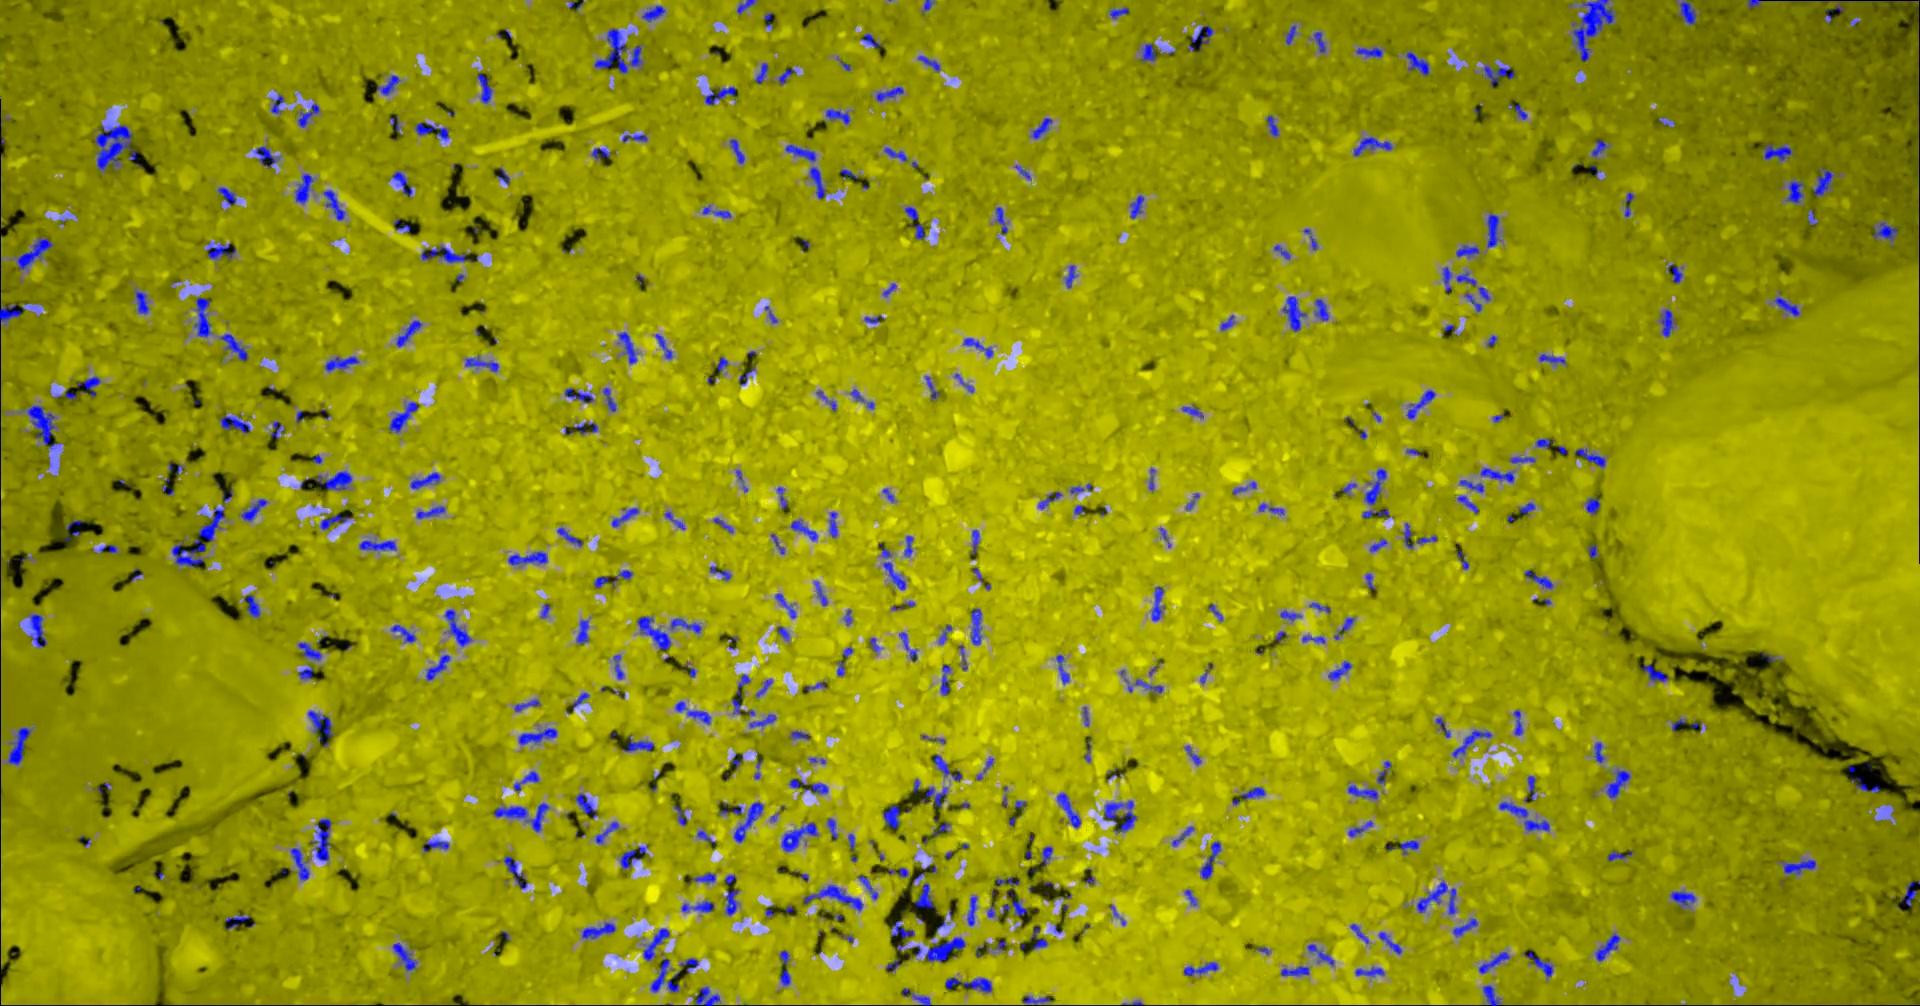ant: (171, 506, 223, 567), (594, 28, 641, 72), (93, 124, 136, 170), (493, 803, 549, 831), (803, 884, 862, 909), (1498, 801, 1549, 831), (25, 405, 58, 448), (1416, 880, 1457, 915), (877, 542, 905, 589), (733, 801, 763, 842), (636, 616, 670, 649), (17, 238, 52, 269), (1451, 729, 1491, 757), (1103, 800, 1137, 832), (781, 822, 817, 851), (444, 608, 470, 647), (1835, 0, 1919, 11), (924, 937, 964, 962), (650, 958, 678, 991), (389, 401, 418, 432), (307, 710, 331, 746), (1406, 389, 1435, 418), (310, 818, 330, 860), (306, 470, 350, 489), (643, 929, 669, 960), (8, 727, 30, 763), (1364, 467, 1385, 506), (1283, 296, 1305, 332), (503, 855, 527, 888), (420, 246, 472, 262), (676, 701, 710, 724), (1057, 793, 1079, 827), (218, 333, 248, 359), (932, 754, 961, 781), (731, 673, 750, 714), (1200, 841, 1220, 879), (1352, 136, 1392, 155), (1523, 950, 1552, 976), (1483, 64, 1515, 86), (943, 977, 990, 992), (1605, 768, 1630, 796), (1594, 934, 1619, 962), (593, 569, 632, 587), (396, 320, 422, 347), (518, 727, 556, 744), (392, 942, 417, 970), (904, 206, 924, 239), (194, 296, 211, 337), (618, 845, 648, 868), (323, 189, 344, 220), (1478, 951, 1509, 973), (1002, 890, 1027, 916), (1811, 166, 1832, 196), (290, 847, 309, 880), (1187, 24, 1211, 50), (425, 654, 450, 680), (415, 122, 450, 140), (1307, 942, 1333, 965), (617, 332, 636, 363), (963, 337, 992, 357), (1230, 786, 1263, 804), (1404, 51, 1429, 75), (1575, 448, 1605, 467), (463, 354, 498, 371), (703, 86, 735, 104), (898, 631, 917, 661), (789, 779, 828, 793), (240, 498, 265, 520), (513, 770, 538, 791), (575, 793, 597, 818), (29, 614, 46, 647), (785, 144, 815, 161), (295, 173, 312, 203), (324, 356, 359, 371), (218, 414, 249, 432), (790, 520, 817, 540), (921, 786, 947, 807), (1524, 569, 1552, 588), (809, 166, 825, 198), (596, 821, 618, 843), (297, 103, 319, 127), (76, 376, 100, 398), (206, 241, 235, 259), (375, 75, 400, 95), (254, 146, 279, 166), (507, 551, 547, 564), (775, 593, 795, 619), (857, 874, 877, 899), (914, 883, 935, 908), (1773, 297, 1799, 316), (611, 507, 637, 526), (582, 922, 615, 937), (1641, 663, 1669, 681), (902, 987, 930, 1005), (1378, 931, 1401, 953), (391, 171, 411, 196), (1872, 221, 1897, 240), (556, 527, 582, 546), (621, 735, 653, 751), (1783, 859, 1815, 874), (1900, 880, 1919, 906), (1850, 776, 1879, 793), (1030, 117, 1051, 138), (476, 72, 491, 103), (670, 617, 701, 633), (1763, 144, 1790, 160), (1479, 467, 1512, 481), (1183, 962, 1217, 976), (0, 304, 24, 323), (850, 389, 874, 408), (297, 641, 321, 661), (1327, 661, 1351, 680), (695, 986, 719, 1005), (390, 624, 415, 641), (1670, 890, 1695, 908), (223, 911, 249, 929), (1451, 918, 1477, 936), (410, 473, 439, 488), (319, 514, 350, 528), (1150, 586, 1163, 620), (1679, 0, 1697, 24), (1785, 179, 1803, 203), (890, 920, 914, 937), (875, 86, 903, 102), (1487, 213, 1500, 246), (655, 333, 672, 358), (1335, 617, 1354, 639), (1171, 826, 1192, 845), (1055, 654, 1069, 683), (1347, 784, 1377, 798), (970, 608, 982, 644), (641, 5, 665, 22), (825, 108, 850, 124), (1037, 492, 1062, 508), (883, 804, 899, 828), (1031, 925, 1048, 949), (1660, 309, 1674, 337), (564, 387, 592, 401), (817, 390, 836, 410), (1457, 495, 1478, 513), (359, 540, 396, 550), (729, 138, 744, 163), (217, 185, 236, 205), (664, 511, 684, 528), (917, 55, 938, 71), (243, 594, 259, 616), (702, 205, 730, 217), (417, 506, 444, 518), (1134, 680, 1162, 692), (724, 889, 738, 915), (938, 664, 950, 695), (1349, 821, 1371, 836), (749, 714, 776, 727), (1350, 923, 1368, 942), (924, 376, 938, 400), (1482, 984, 1498, 1005), (709, 565, 730, 580), (514, 699, 540, 711), (681, 901, 712, 911), (860, 33, 883, 47), (883, 147, 905, 161), (135, 290, 149, 312), (1377, 760, 1390, 782), (1464, 292, 1481, 311), (1667, 263, 1683, 283), (1435, 716, 1450, 737), (602, 387, 615, 412), (573, 422, 597, 434), (1459, 479, 1483, 492), (1230, 481, 1255, 494), (814, 580, 827, 605), (575, 619, 588, 643), (996, 206, 1007, 232), (1538, 353, 1564, 365), (1524, 775, 1535, 801), (422, 840, 448, 851), (1314, 298, 1328, 320), (966, 895, 977, 925), (1022, 995, 1051, 1005), (1139, 43, 1156, 61), (1591, 138, 1608, 156), (571, 692, 589, 709), (1183, 746, 1200, 763), (1130, 196, 1143, 218), (1455, 244, 1478, 257), (1258, 503, 1284, 514), (712, 517, 731, 532), (612, 654, 623, 680), (754, 62, 768, 83), (1510, 103, 1526, 119), (269, 420, 284, 438), (1363, 508, 1389, 518), (1512, 709, 1523, 735), (737, 0, 756, 14), (270, 94, 284, 113), (1457, 271, 1476, 285), (1399, 840, 1418, 854), (1037, 846, 1051, 865), (1279, 610, 1302, 621), (1280, 967, 1309, 976), (1355, 967, 1384, 976), (1402, 522, 1412, 547), (673, 805, 686, 826), (778, 69, 795, 84), (1272, 244, 1289, 259), (392, 218, 410, 232), (1585, 497, 1599, 514), (681, 958, 698, 972), (1313, 30, 1324, 52), (776, 486, 787, 508), (1608, 850, 1632, 860), (691, 873, 715, 883), (938, 624, 951, 643), (828, 511, 837, 537), (1309, 602, 1330, 614), (1592, 742, 1604, 762), (1356, 47, 1382, 56), (622, 133, 648, 142), (1443, 265, 1451, 291), (1065, 265, 1076, 287), (1181, 406, 1203, 417), (1069, 483, 1091, 493), (1266, 116, 1277, 135), (839, 168, 858, 179), (1457, 550, 1468, 569), (1624, 192, 1633, 216), (1220, 315, 1234, 330), (1517, 502, 1534, 514), (1369, 539, 1385, 551), (1109, 8, 1129, 18), (827, 818, 837, 838), (1509, 456, 1535, 464), (996, 876, 1018, 885), (1285, 25, 1295, 44), (590, 147, 610, 158), (971, 528, 979, 554), (903, 535, 912, 556), (1535, 438, 1553, 448), (716, 356, 728, 371), (1302, 635, 1324, 643), (778, 969, 790, 984), (790, 730, 809, 739), (888, 868, 907, 876), (298, 667, 312, 678), (1587, 542, 1596, 558), (1917, 50, 1919, 122)
